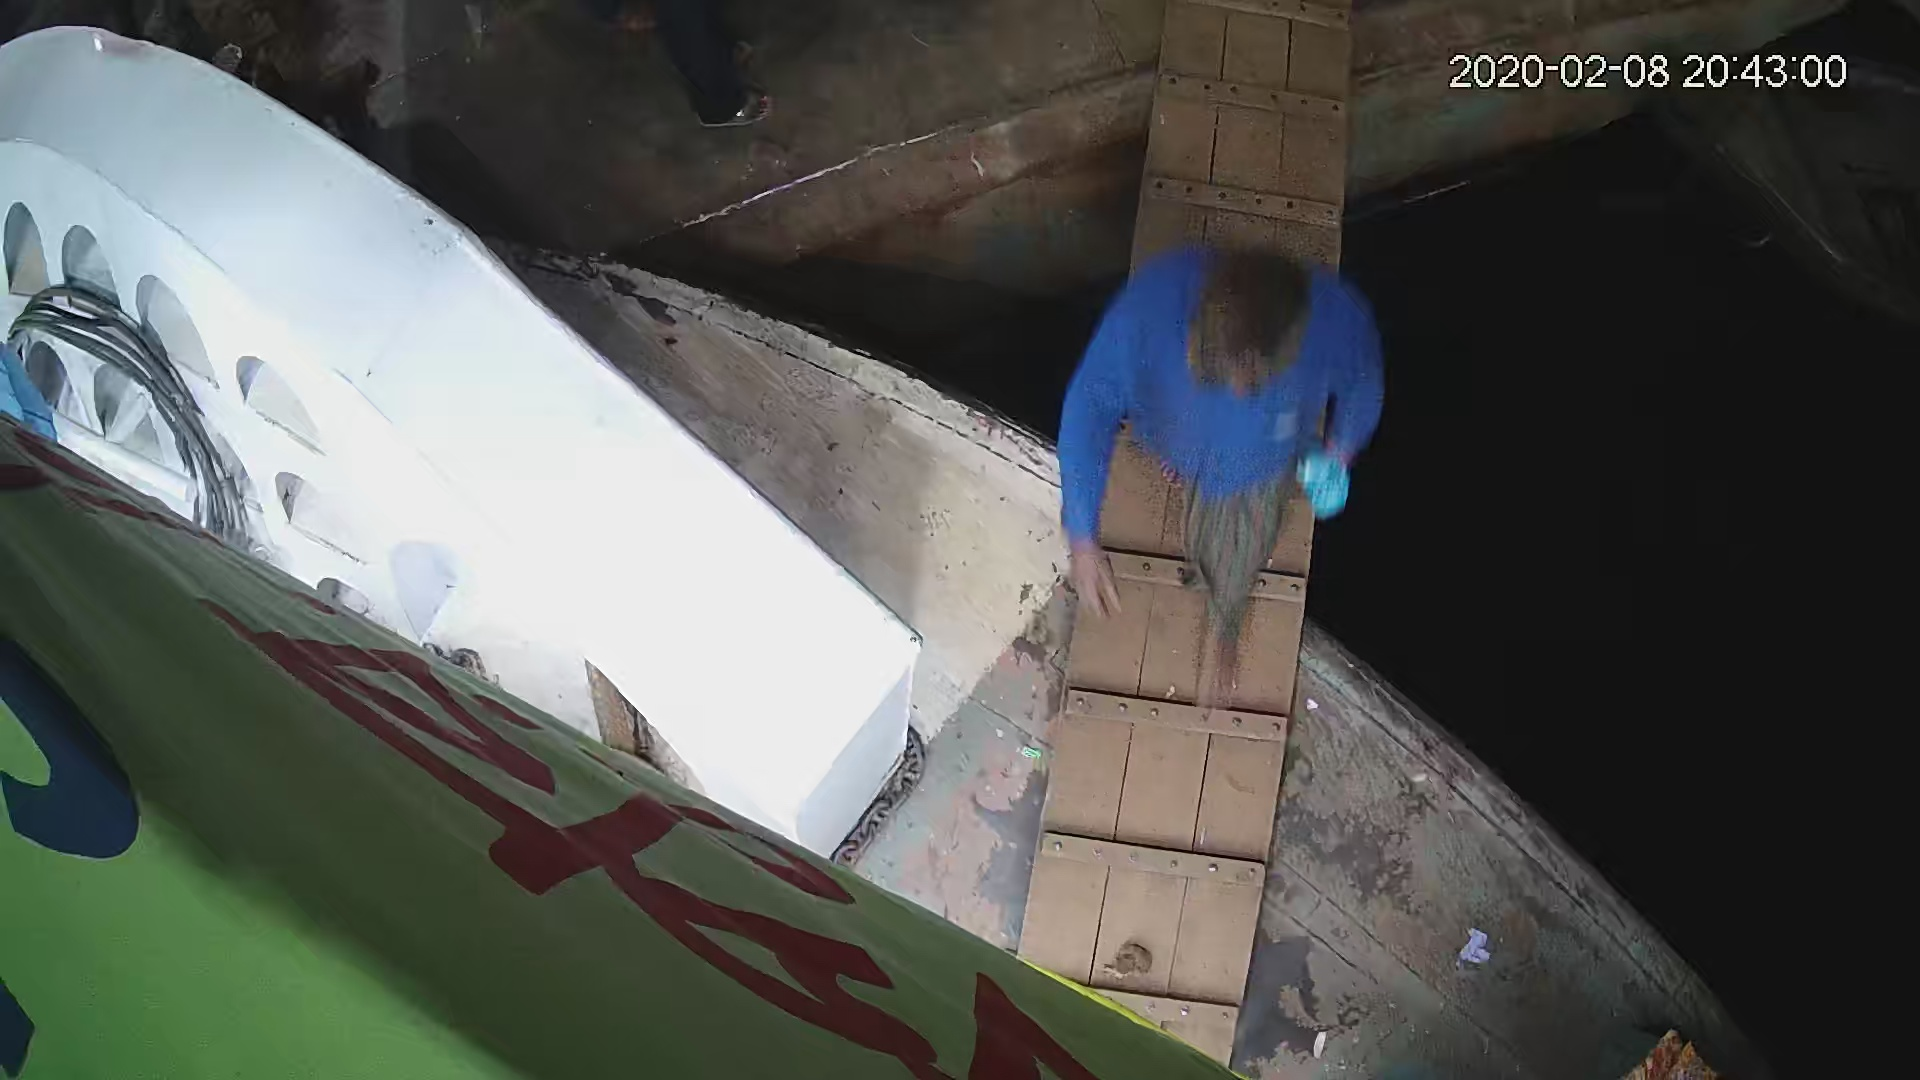person: (1056, 238, 1396, 707)
